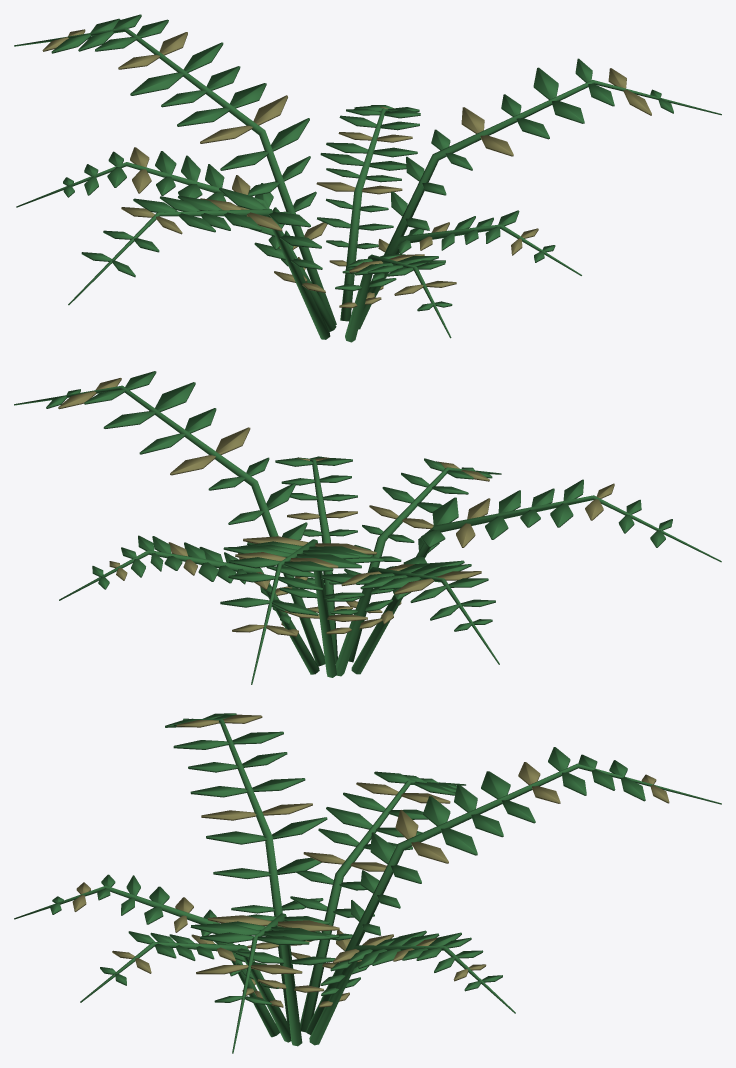
Rendered from MSH_Fern_B.fbx.
3 renders of one model, top to bottom at view 1: azimuth 30°, elevation 25°; view 2: azimuth 150°, elevation 25°; view 3: azimuth 270°, elevation 25°, orthographic. The views are drawn at different scales.
Parts seen in each view (by area): view 1: MSH_Fern_B_Fronds3D; view 2: MSH_Fern_B_Fronds3D; view 3: MSH_Fern_B_Fronds3D.
Part boxes in pixels (<box>): MSH_Fern_B_Fronds3D: <box>14,14,721,342</box>; MSH_Fern_B_Fronds3D: <box>14,371,721,684</box>; MSH_Fern_B_Fronds3D: <box>14,713,721,1053</box>.
Bounding box in the file's own units: 1.94 × 0.6178 × 1.7.
